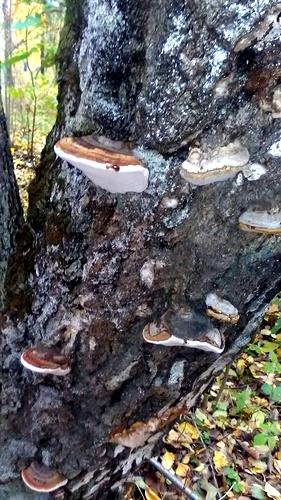Ganoderma - Fruit Body: (57, 134, 150, 194), (146, 305, 224, 356), (179, 141, 248, 187), (20, 457, 69, 493), (22, 346, 77, 376), (241, 207, 281, 232)
